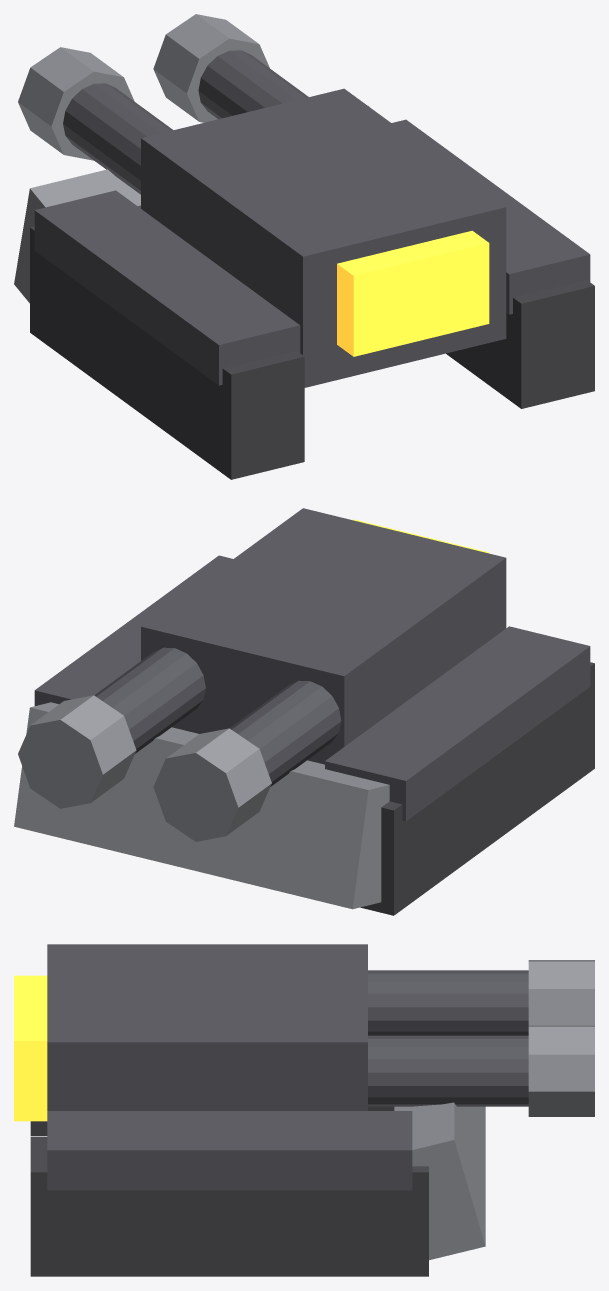
File: titanforge_juggernaut.glb
3 views of the same model, one above another, from view 1: azimuth 30°, elevation 25°; view 2: azimuth 150°, elevation 25°; view 3: azimuth 270°, elevation 25° (orthographic).
Visible parts, largest first — view 1: Cube.004, Cube, Cube.001, Cube.006, Cube.002, Cube.003, Cylinder, Cylinder.001, Cylinder.003, Cylinder.002, Cube.005; view 2: Cube.004, Cube.005, Cube.001, Cube, Cylinder.003, Cylinder.001, Cylinder, Cylinder.002, Cube.003; view 3: Cube.004, Cube.002, Cube.003, Cylinder.002, Cylinder, Cube.005, Cylinder.003, Cube.006, Cylinder.001.
Boxes of the visible parts, bbox=[...] form: Cube.004: bbox=[141, 88, 506, 387]; Cube: bbox=[30, 226, 304, 479]; Cube.001: bbox=[34, 190, 300, 385]; Cube.006: bbox=[337, 230, 489, 356]; Cube.002: bbox=[446, 280, 594, 408]; Cube.003: bbox=[392, 119, 590, 314]; Cylinder: bbox=[63, 83, 173, 194]; Cylinder.001: bbox=[18, 47, 134, 160]; Cylinder.003: bbox=[153, 14, 269, 122]; Cylinder.002: bbox=[198, 50, 308, 119]; Cube.005: bbox=[14, 105, 369, 303]; Cube.004: bbox=[141, 508, 506, 764]; Cube.005: bbox=[14, 702, 389, 909]; Cube.001: bbox=[325, 626, 590, 821]; Cube: bbox=[360, 662, 594, 915]; Cylinder.003: bbox=[18, 695, 136, 808]; Cylinder.001: bbox=[153, 728, 271, 841]; Cylinder: bbox=[230, 680, 341, 786]; Cylinder.002: bbox=[94, 647, 205, 753]; Cube.003: bbox=[34, 555, 232, 705]; Cube.004: bbox=[47, 944, 367, 1110]; Cube.002: bbox=[30, 1137, 428, 1276]; Cube.003: bbox=[47, 1111, 412, 1190]; Cylinder.002: bbox=[368, 1035, 528, 1106]; Cylinder: bbox=[368, 970, 528, 1035]; Cube.005: bbox=[394, 1102, 485, 1260]; Cylinder.003: bbox=[528, 1025, 594, 1116]; Cube.006: bbox=[14, 975, 47, 1121]; Cylinder.001: bbox=[528, 960, 594, 1025].
Size of the model in its own units: 1.92 by 0.975 by 2.63.
